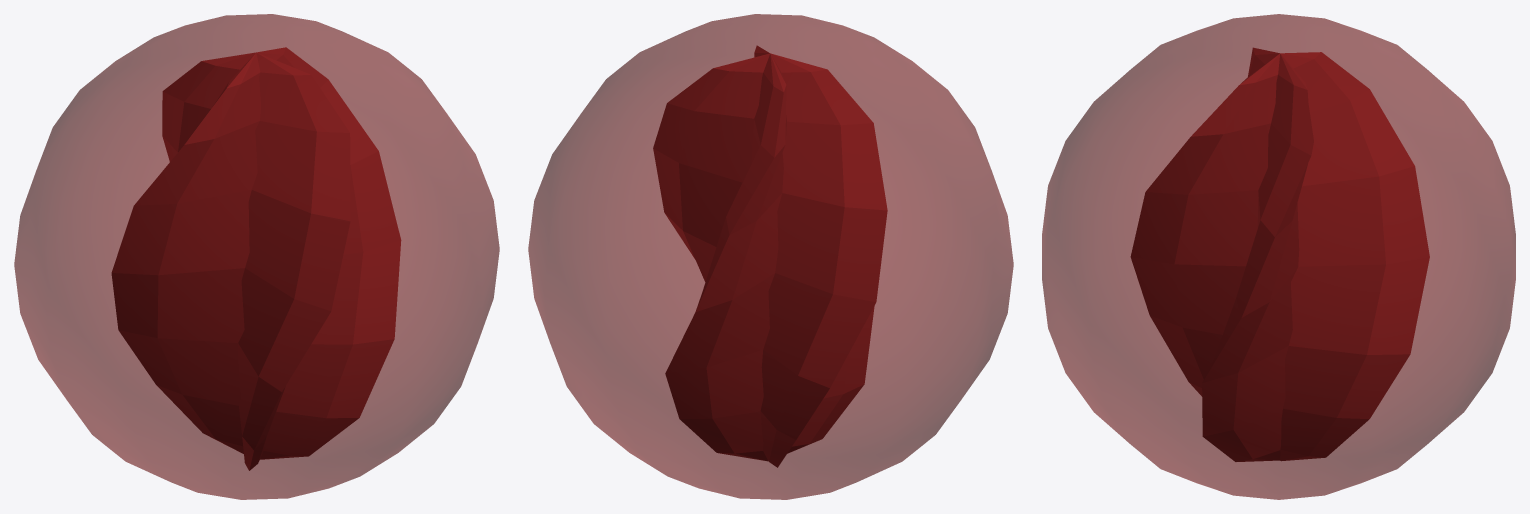
Rendered from Enviro_Marble_002.fbx.
3 views of the same model, side by side, from view 1: azimuth 30°, elevation 25°; view 2: azimuth 150°, elevation 25°; view 3: azimuth 270°, elevation 25° (orthographic).
Parts seen in each view (by area): view 1: Marble1; view 2: Marble1; view 3: Marble1.
Part boxes in pixels (bbox=[...]): Marble1: bbox=[14, 14, 499, 499]; Marble1: bbox=[528, 14, 1013, 499]; Marble1: bbox=[1042, 14, 1515, 499].
Size of the model in its own units: 1.91 by 1.91 by 1.86.
